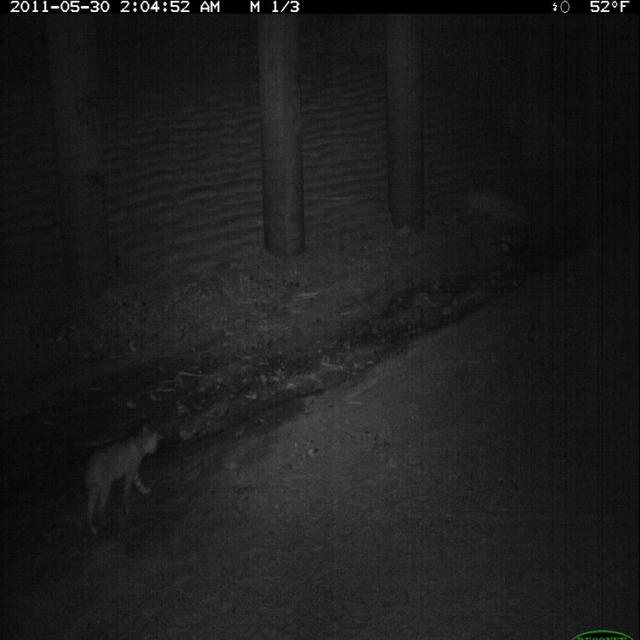bobcat: (79, 419, 166, 543)
